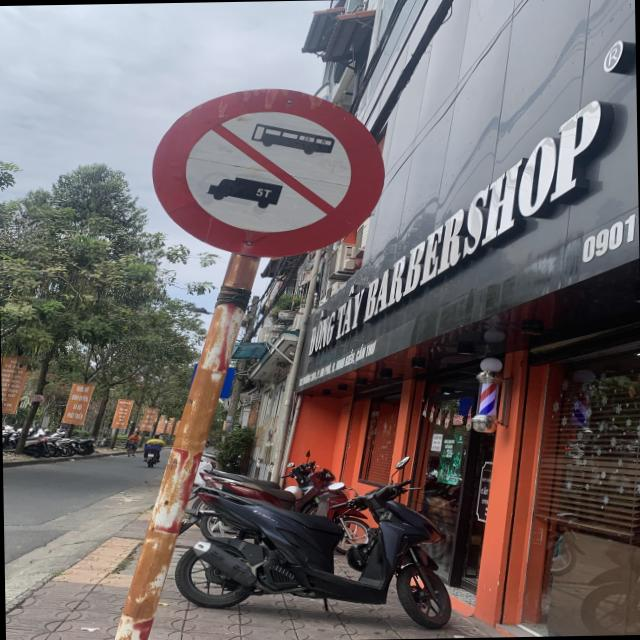Cam_XeTai_XeKhach: (152, 85, 386, 263)
